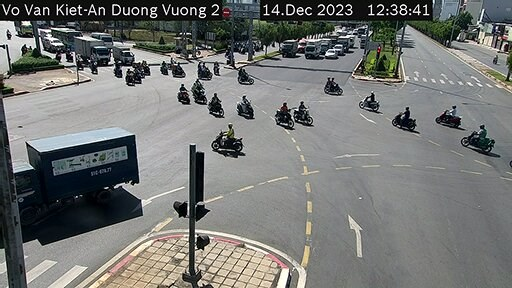car: (302, 39, 324, 60), (322, 46, 338, 62)
motorbike: (205, 119, 253, 158), (465, 122, 498, 153), (287, 93, 315, 127), (203, 91, 229, 121), (435, 103, 465, 128), (270, 101, 294, 131), (393, 105, 419, 131), (233, 95, 260, 120), (319, 76, 350, 97), (185, 79, 207, 104), (360, 90, 383, 113), (173, 83, 193, 107), (235, 67, 258, 87), (194, 62, 214, 82)
truck: (11, 132, 167, 212), (71, 35, 108, 62), (49, 27, 87, 48), (110, 44, 142, 66), (279, 37, 299, 60), (90, 32, 115, 44)
